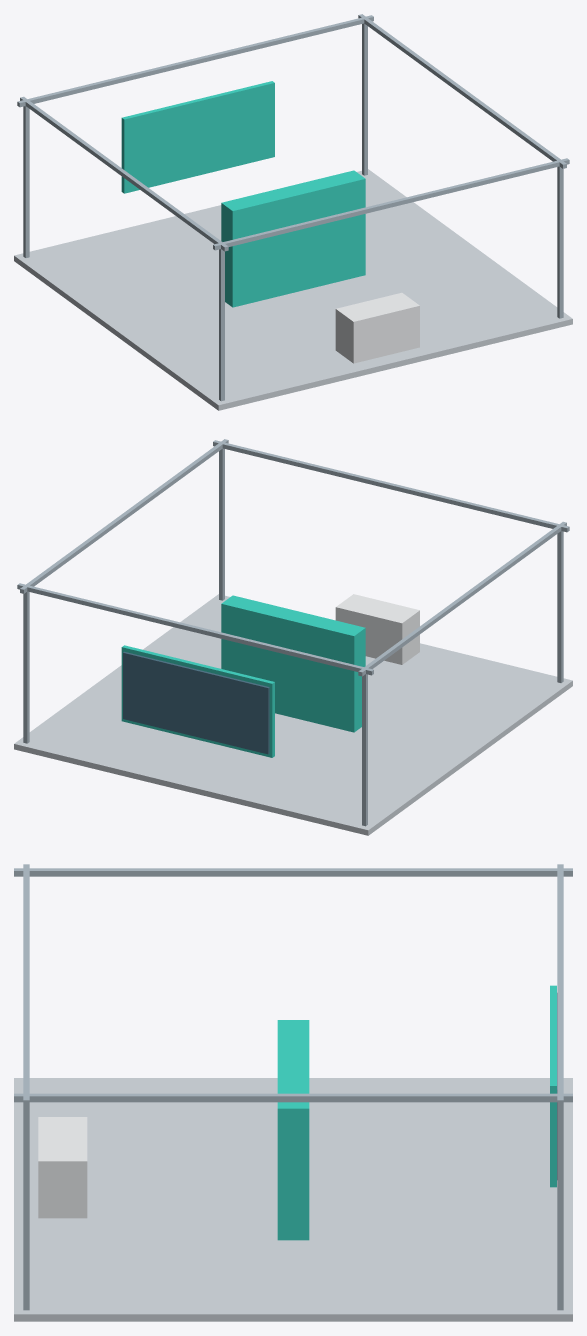
3 views of the same model, one above another, from view 1: azimuth 30°, elevation 25°; view 2: azimuth 150°, elevation 25°; view 3: azimuth 270°, elevation 25° (orthographic). The views are drawn at different scales.
Parts seen in each view (by area): view 1: Exhibition Booth Concept; view 2: Exhibition Booth Concept; view 3: Exhibition Booth Concept.
Boxes of the visible parts, x1,y1,x2,y2 form: Exhibition Booth Concept: (14,14,572,410); Exhibition Booth Concept: (14,439,572,835); Exhibition Booth Concept: (14,864,572,1321).
Bounding box in the file's own units: 8 × 3.49 × 8.
